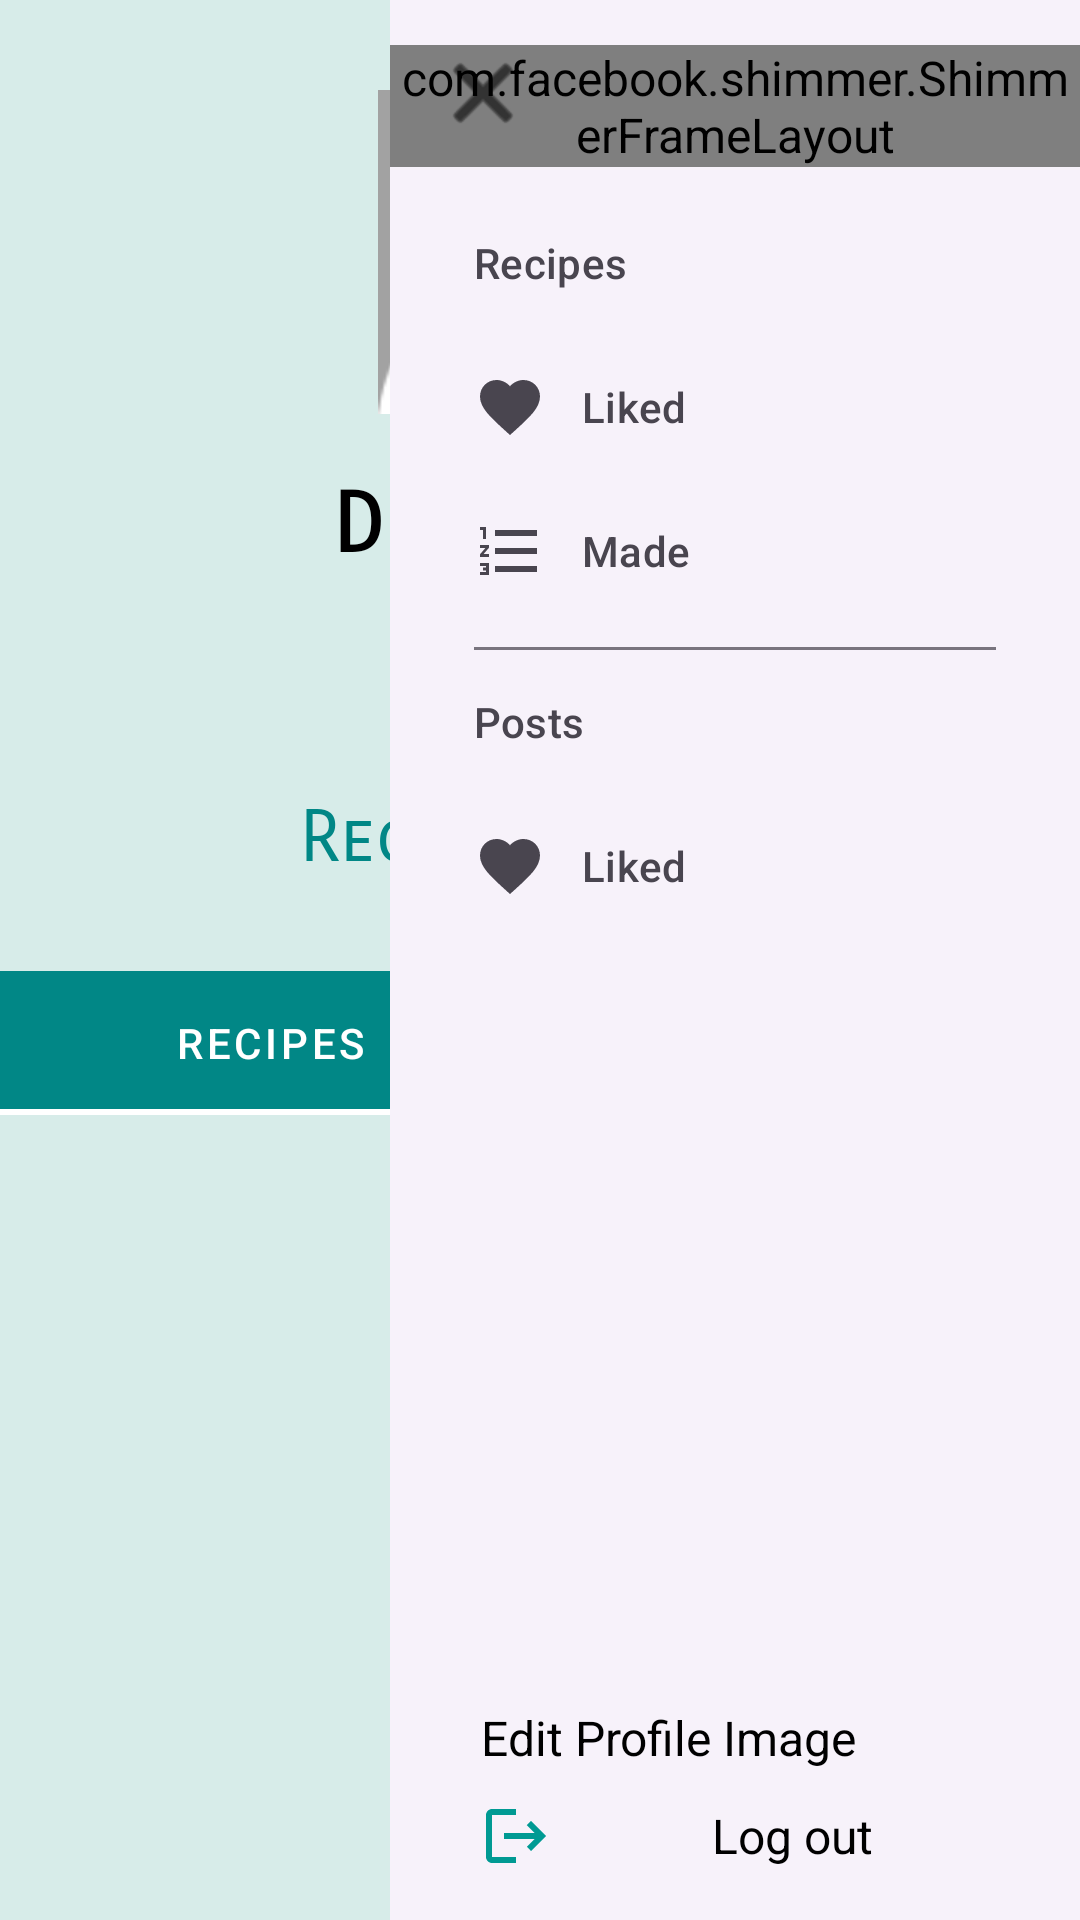

Icons on this 1080x1920 Android screen, each with its box as (x1, y1, x2, y2):
close clear cancel: (453, 59, 526, 123)
